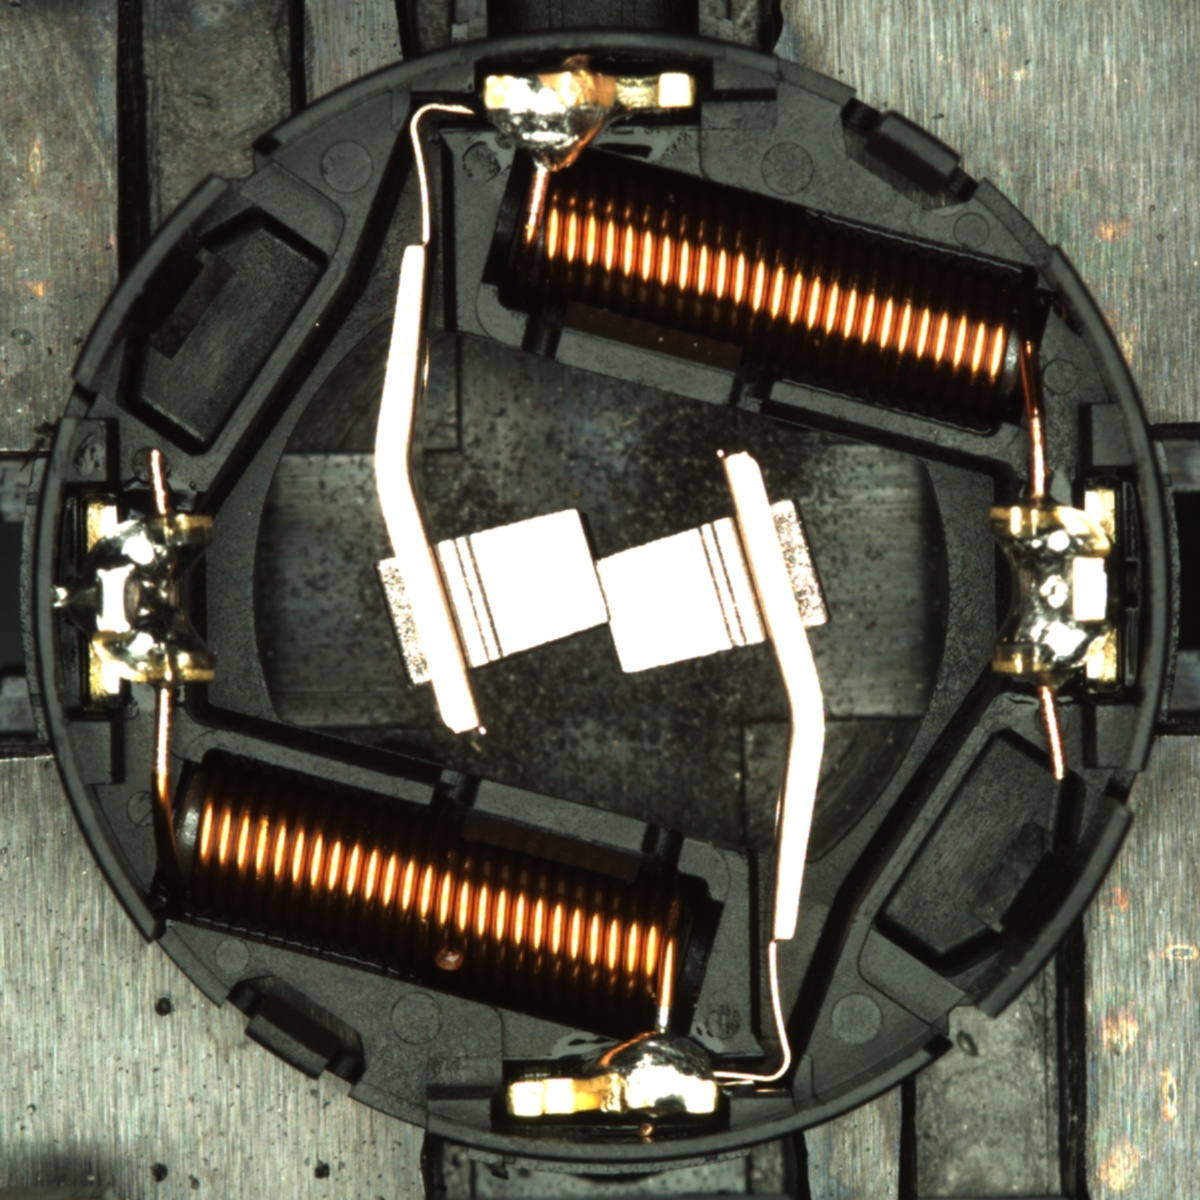1: (257, 30, 486, 255), (715, 927, 944, 1152)
2: (715, 30, 944, 255), (257, 927, 486, 1152)
3: (27, 255, 257, 479), (944, 703, 1174, 927)
4: (257, 255, 486, 479), (715, 703, 944, 927)
5: (486, 142, 715, 367), (486, 815, 715, 1040)
6: (715, 255, 944, 479), (257, 703, 486, 927)
7: (944, 255, 1174, 479), (27, 703, 257, 927)
cacbon: (400, 498, 801, 684)
chau_dien: (81, 497, 221, 699), (982, 487, 1123, 687)
chi_dinh_thanh_de: (48, 578, 74, 612)
tay_choi: (482, 67, 699, 173), (505, 1026, 720, 1121)
thanh_de: (954, 784, 1142, 1032), (60, 164, 245, 404)
